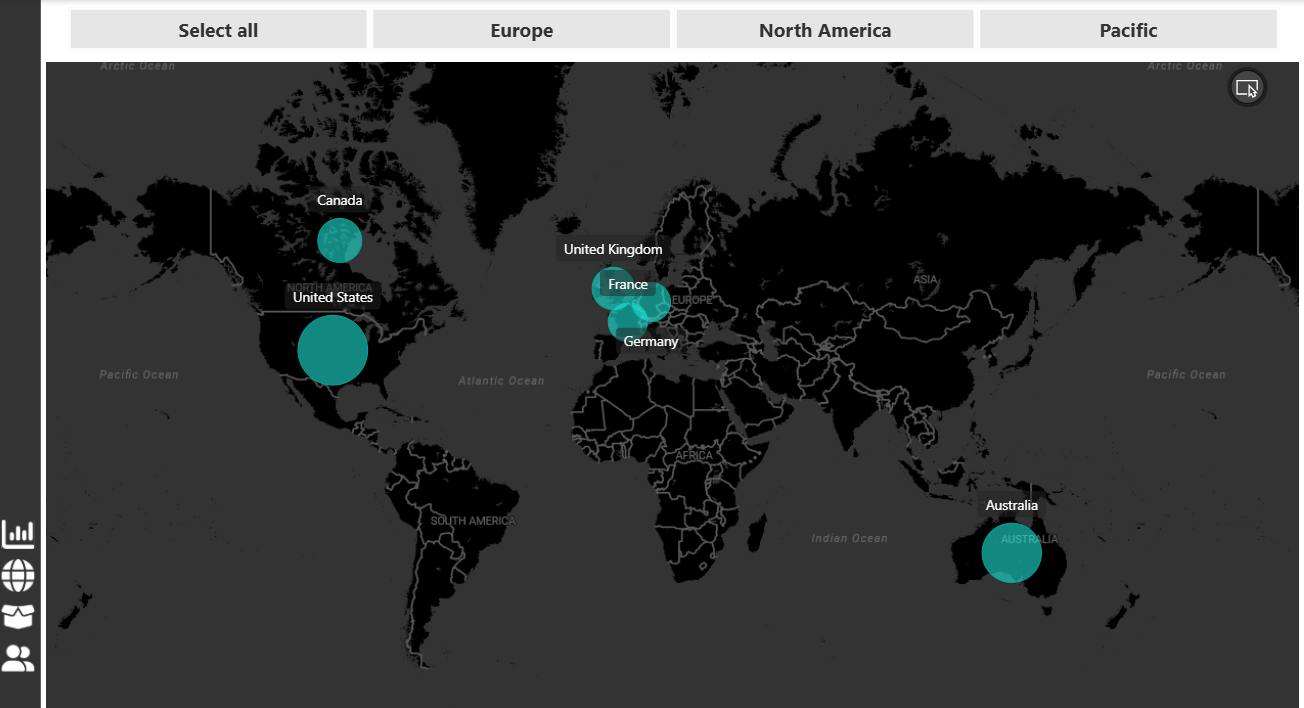

Layout of this report page (visuals, bound fields, positions):
{"tool":"powerbi","page":{"name":"Map","canvas":[1280,720],"ordinal":1},"visuals":[{"type":"shape","box":[0,0,45,720.2],"z":0},{"type":"map","fields":{"Category":["Territory Lookup.Country"],"Size":["Measure Table.Total Orders"]},"box":[45.2,56.3,1235.1,664],"z":1000},{"type":"slicer","fields":{"Values":["Territory Lookup.Continent"]},"box":[45.2,0,1235.1,56.3],"z":2000},{"type":"actionButton","box":[1.8,502.6,45.2,40.4],"z":3000},{"type":"actionButton","box":[1.8,542.9,45.2,40.4],"z":4000},{"type":"actionButton","box":[1.8,583.3,45.2,40.4],"z":5000},{"type":"actionButton","box":[1.8,623.6,45.2,40.4],"z":6000}]}

Visuals, with their boxes on the page's 1280x720 design canvas (x1, y1, x2, y2). These are canvas units, not pixel positions in the 1304x708 screenshot, which may show the page scaled, cropped or inside an application window:
shape: region(0, 0, 45, 720)
map - Territory Lookup.Country x Measure Table.Total Orders: region(45, 56, 1280, 720)
slicer - Territory Lookup.Continent: region(45, 0, 1280, 56)
actionButton: region(2, 503, 47, 543)
actionButton: region(2, 543, 47, 583)
actionButton: region(2, 583, 47, 624)
actionButton: region(2, 624, 47, 664)
